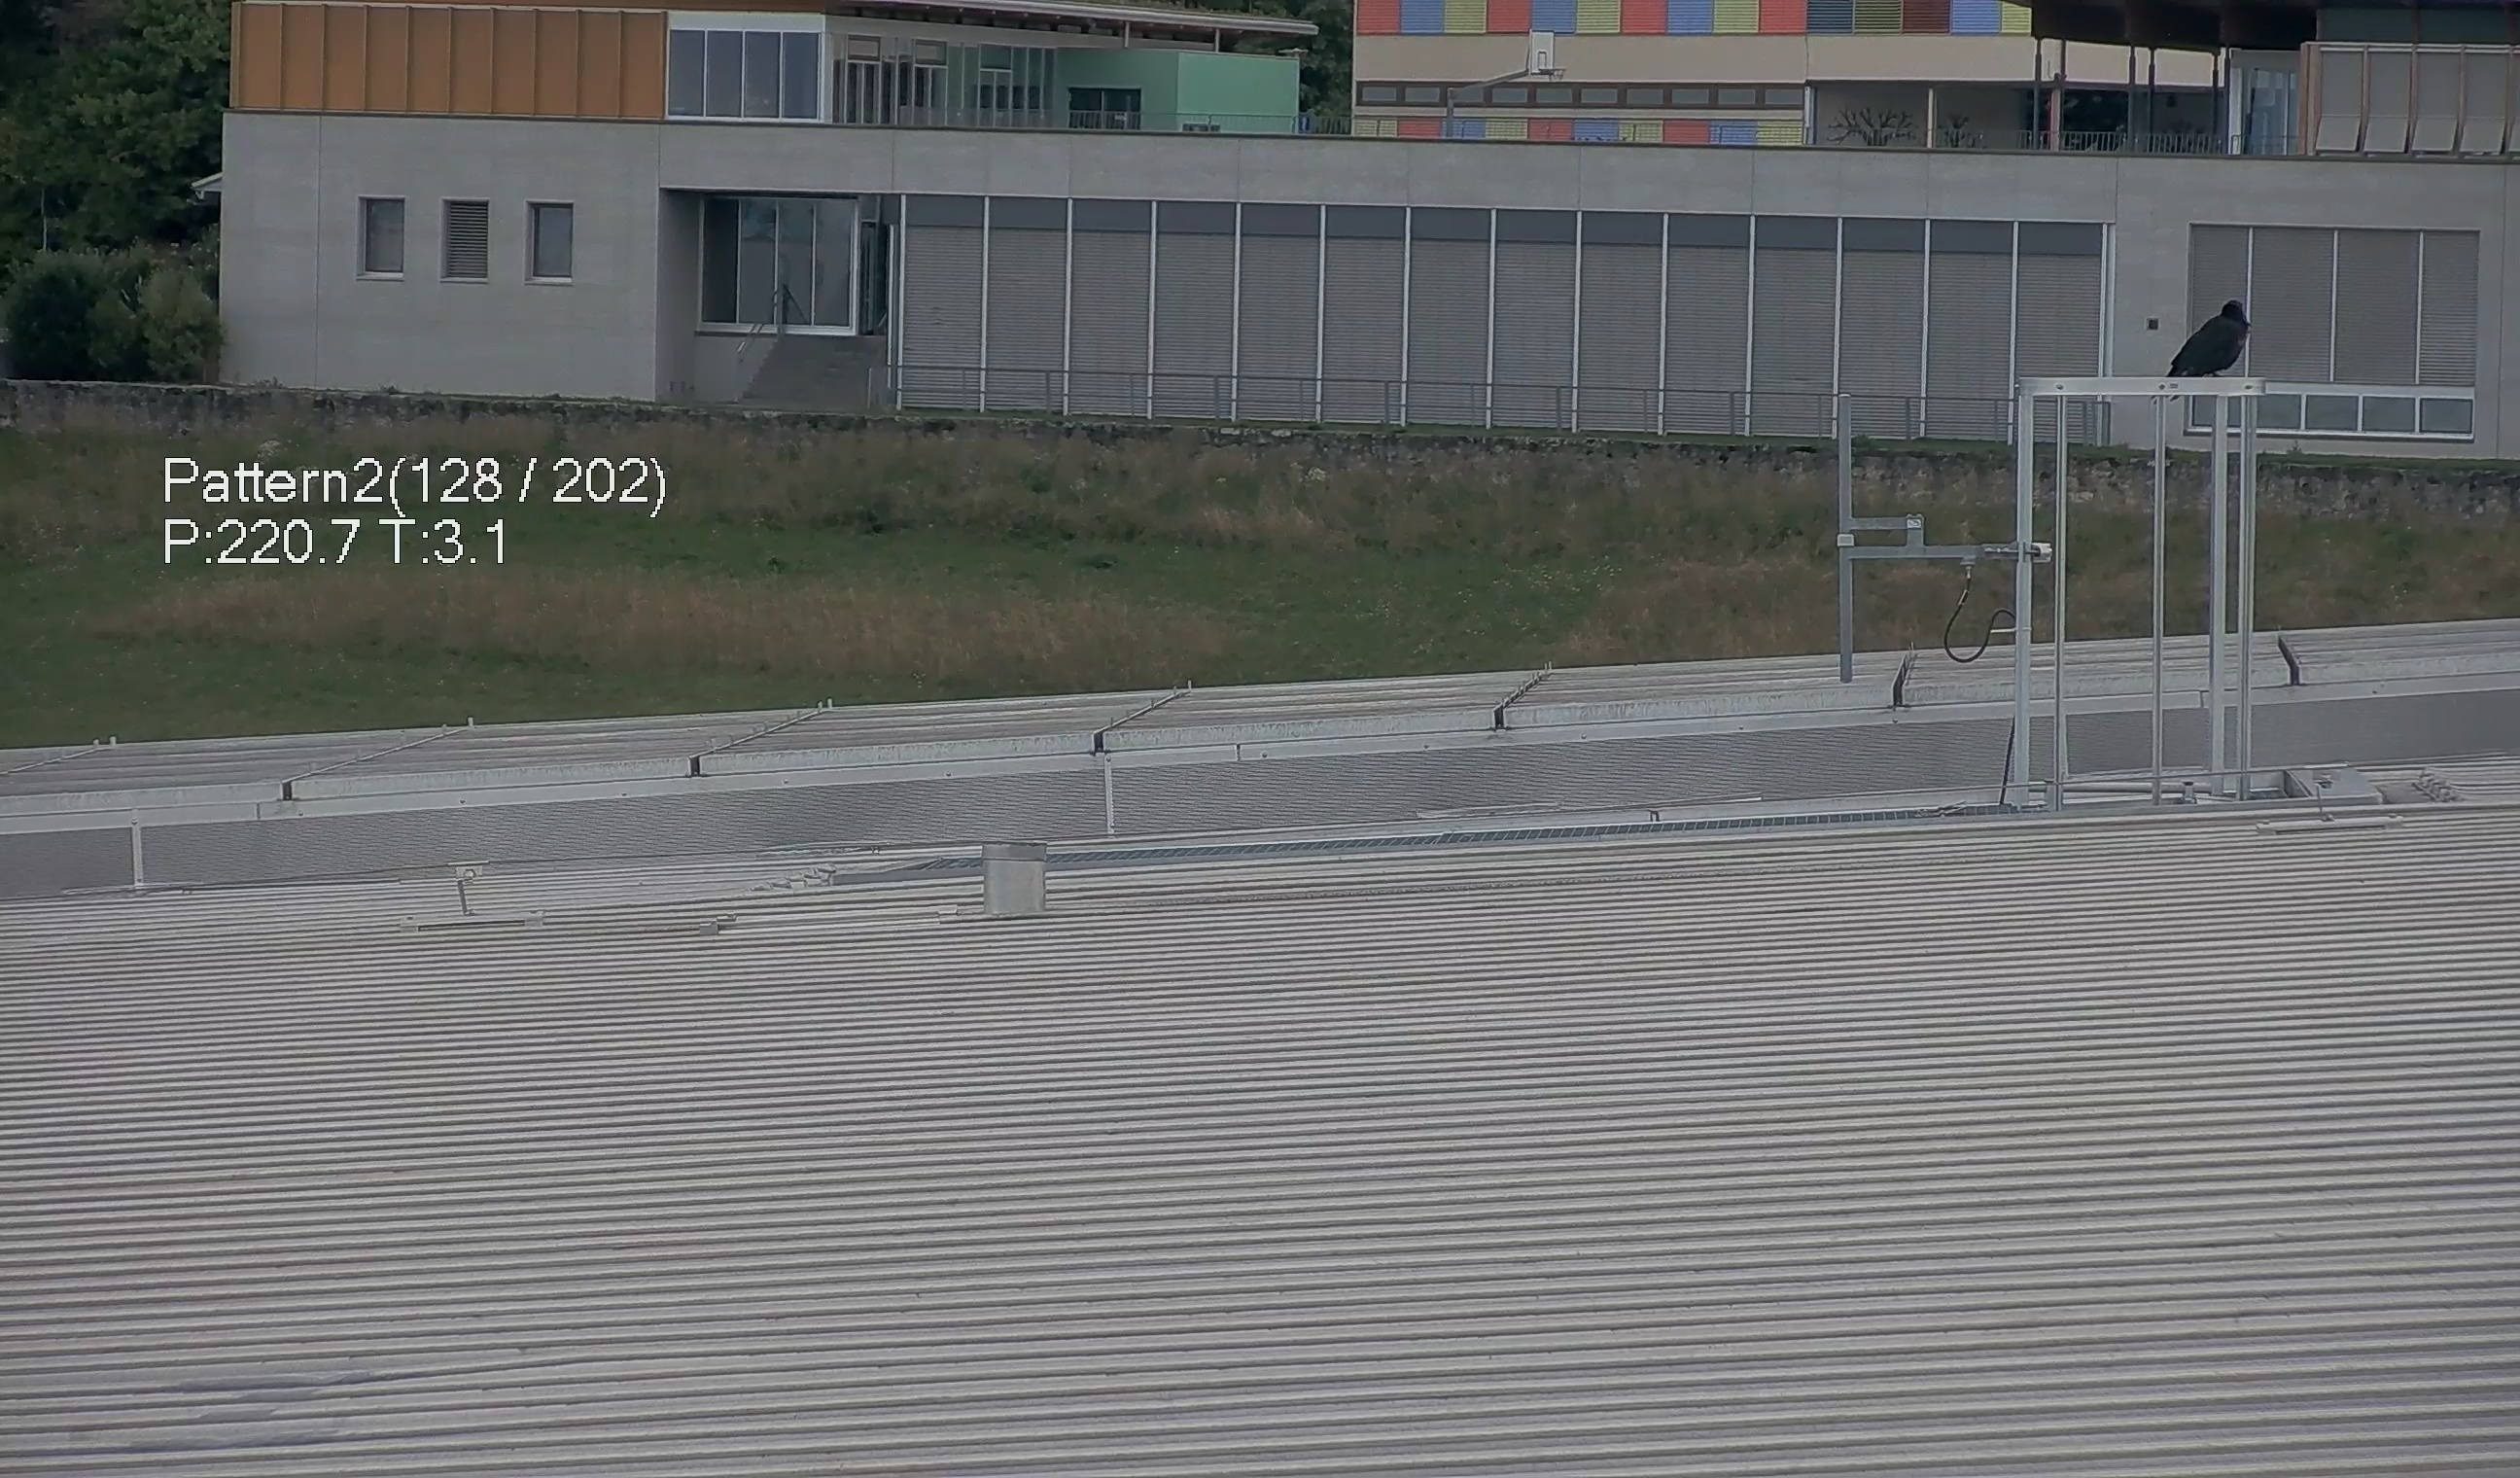Pigeon: (2167, 285, 2270, 389)
